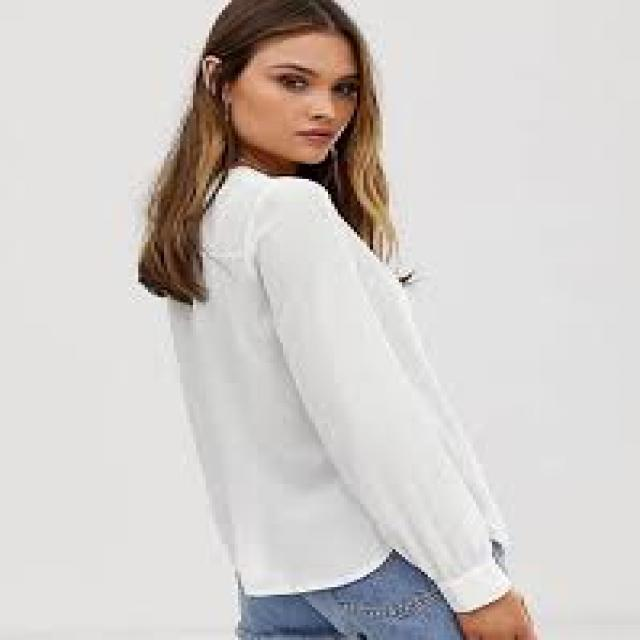plain: (142, 163, 512, 593)
